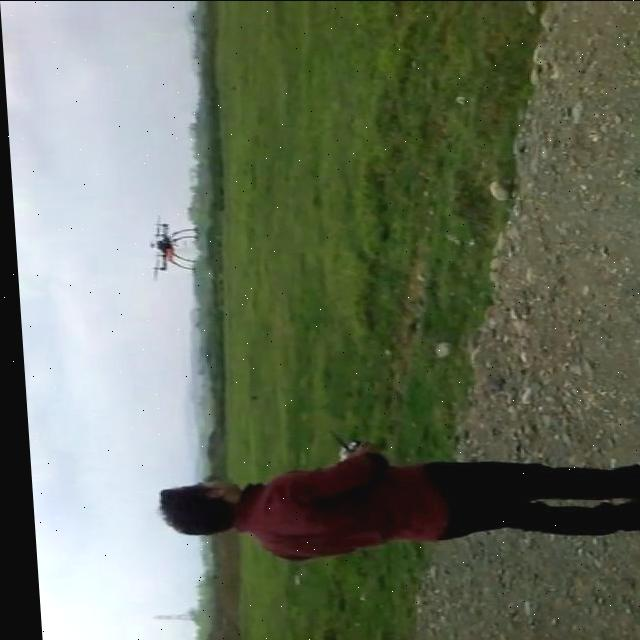drone: (138, 214, 196, 282)
